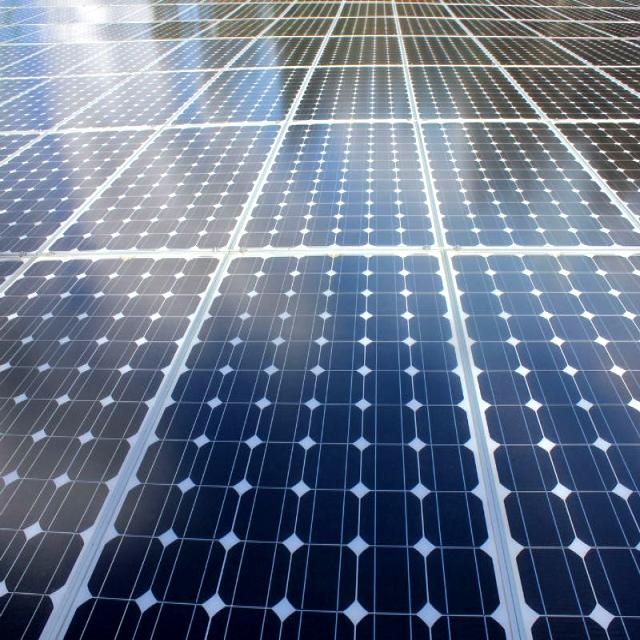crack: (99, 225, 571, 640), (0, 247, 237, 633), (432, 229, 640, 640), (413, 101, 640, 306), (35, 118, 312, 282), (232, 95, 466, 278)
